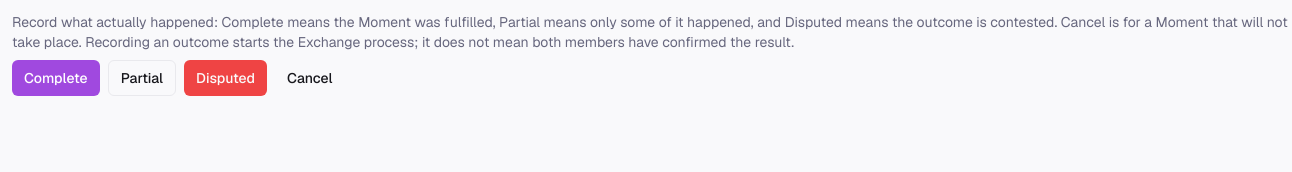
it: MomentActions › restores Disputed control when its action rejects
This screenshot has width=1292, height=172.
What coordinates should you click on to do the following:
click the button "Disputed"
I would click on:
 (226, 78)
Its box is [184,60,267,96].
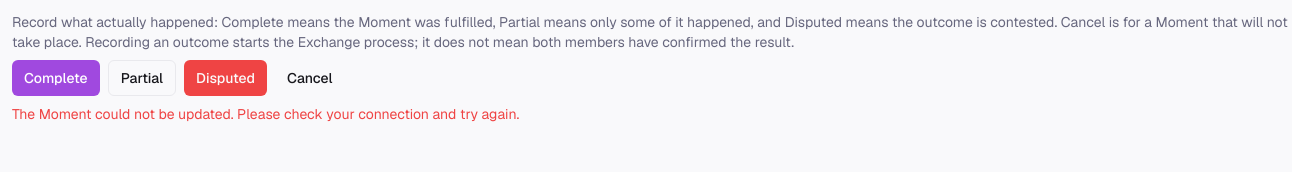
expect the message reads "The Moment could not be updated. Please check your connection and try again.": met, box [12,105,519,123]
